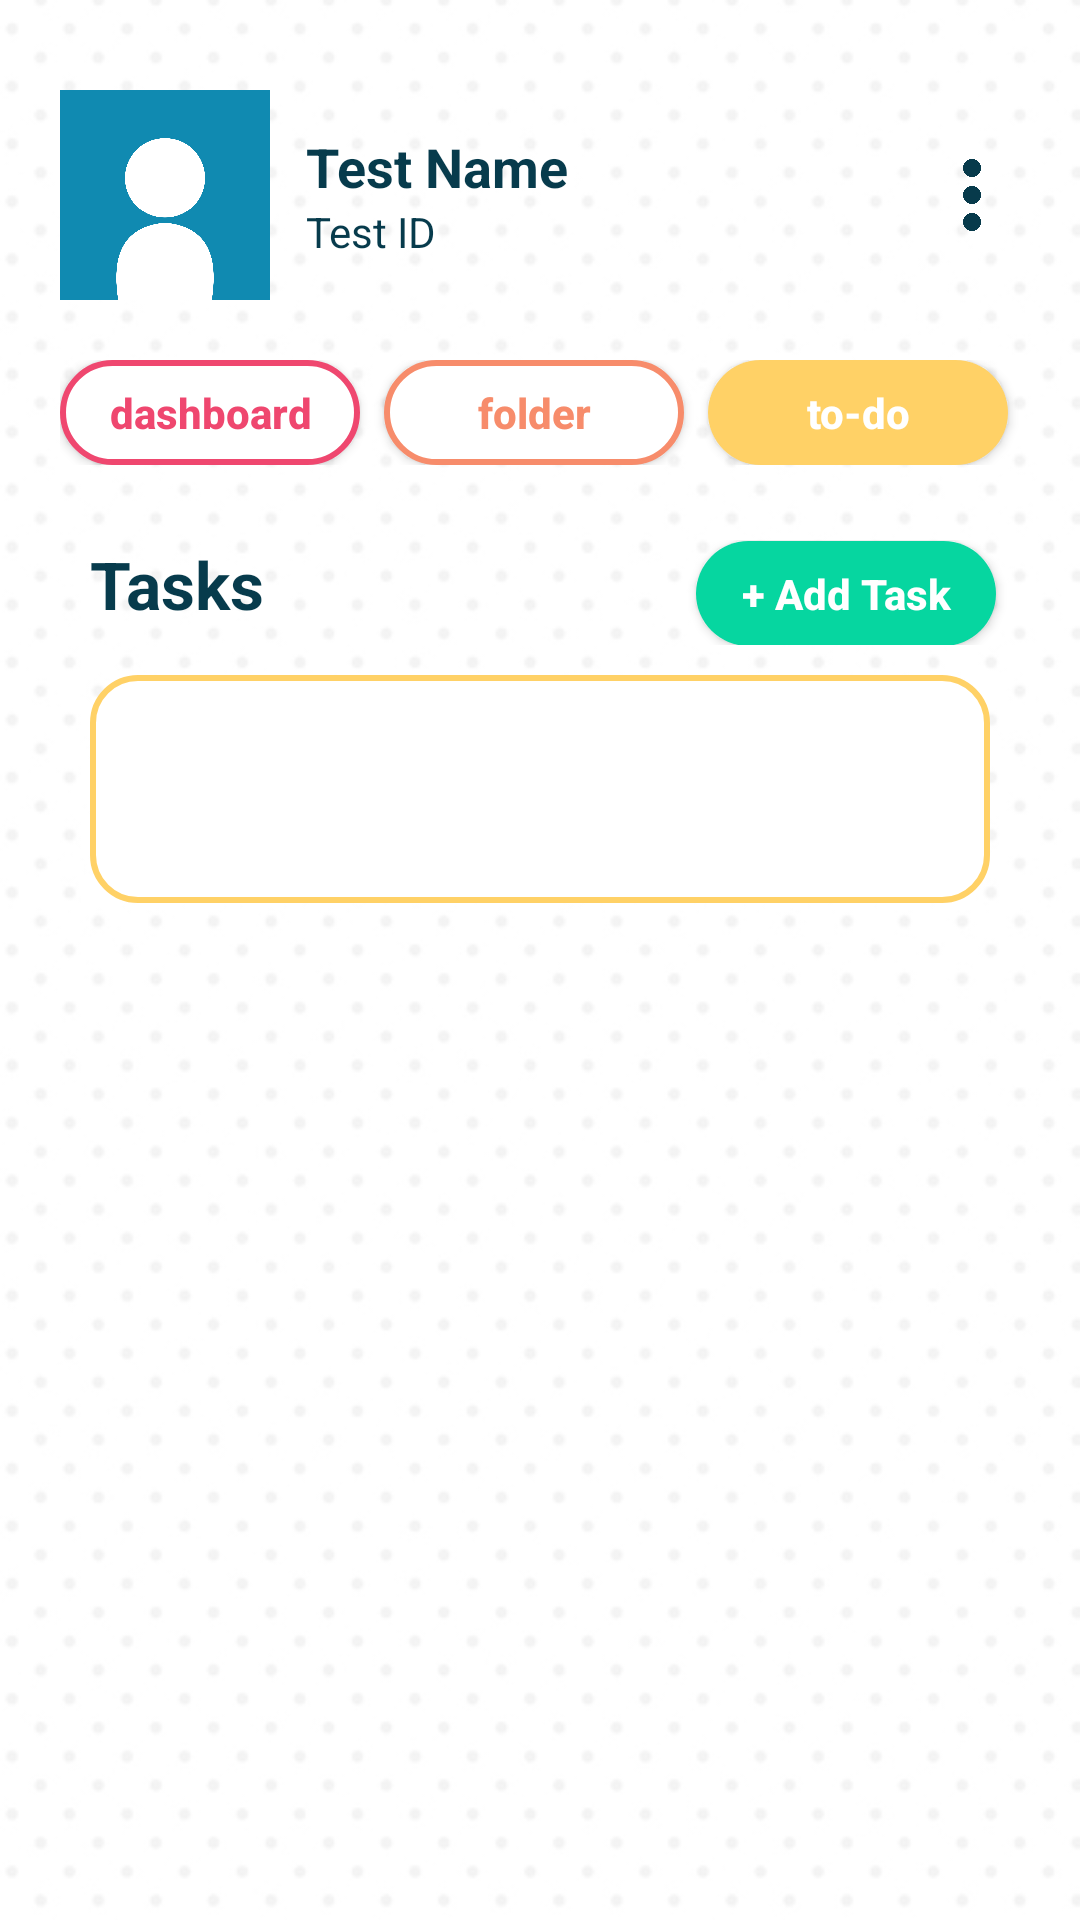

Point at icon controls on the screen. Image size 1080px x 1920px, points as (x=x, y=y).
blueprofile: (x=165, y=195)
More Settings: (x=972, y=195)
